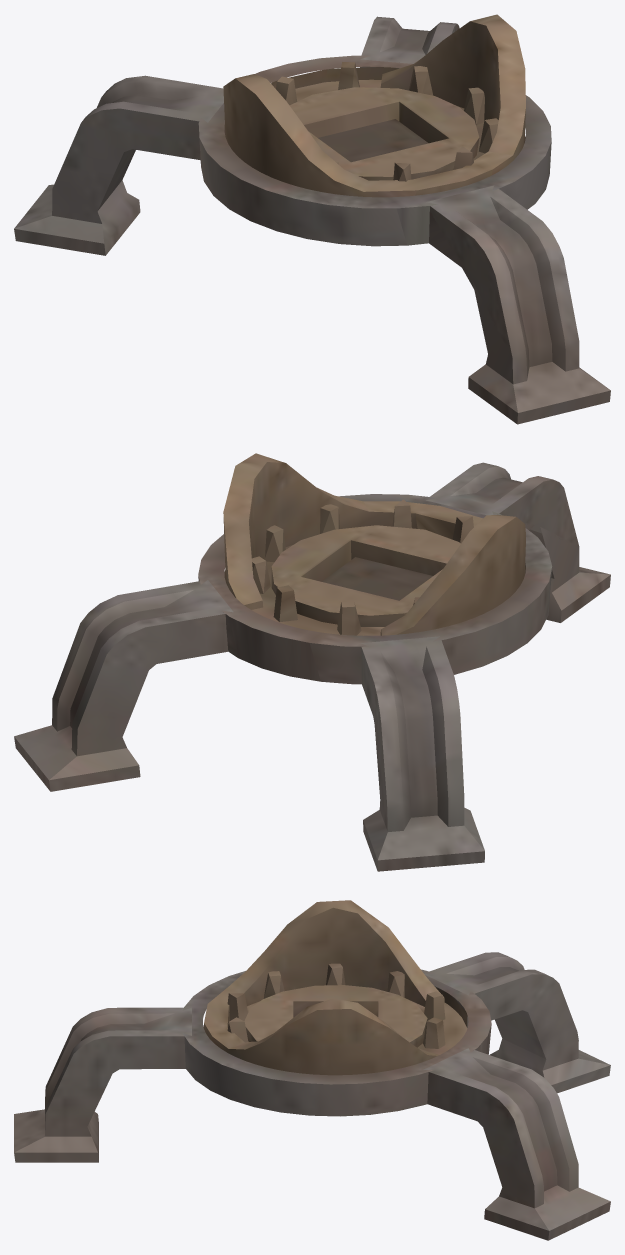
File: stack-inserter-south.glb
The picture shows the model from 3 angles, top to bottom: view 1: azimuth 30°, elevation 25°; view 2: azimuth 150°, elevation 25°; view 3: azimuth 270°, elevation 25°; orthographic projection. The views are drawn at different scales.
Parts seen in each view (by area): view 1: body; view 2: body; view 3: body.
Part boxes in pixels (box(x1,y1,x2,y2)): body: box(14, 14, 610, 424); body: box(14, 453, 610, 871); body: box(14, 900, 610, 1240).
Size of the model in its own units: 0.9131 by 0.415 by 1.18.
Materials: 1 (1 with a texture image).
